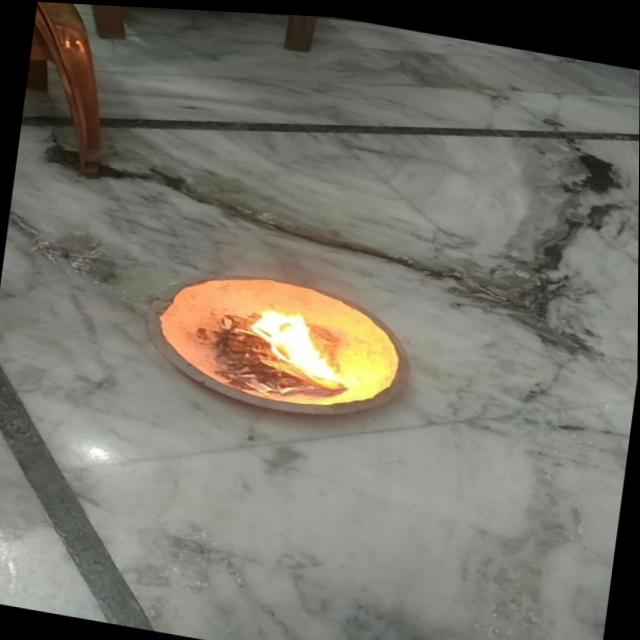fire: (228, 290, 351, 386)
